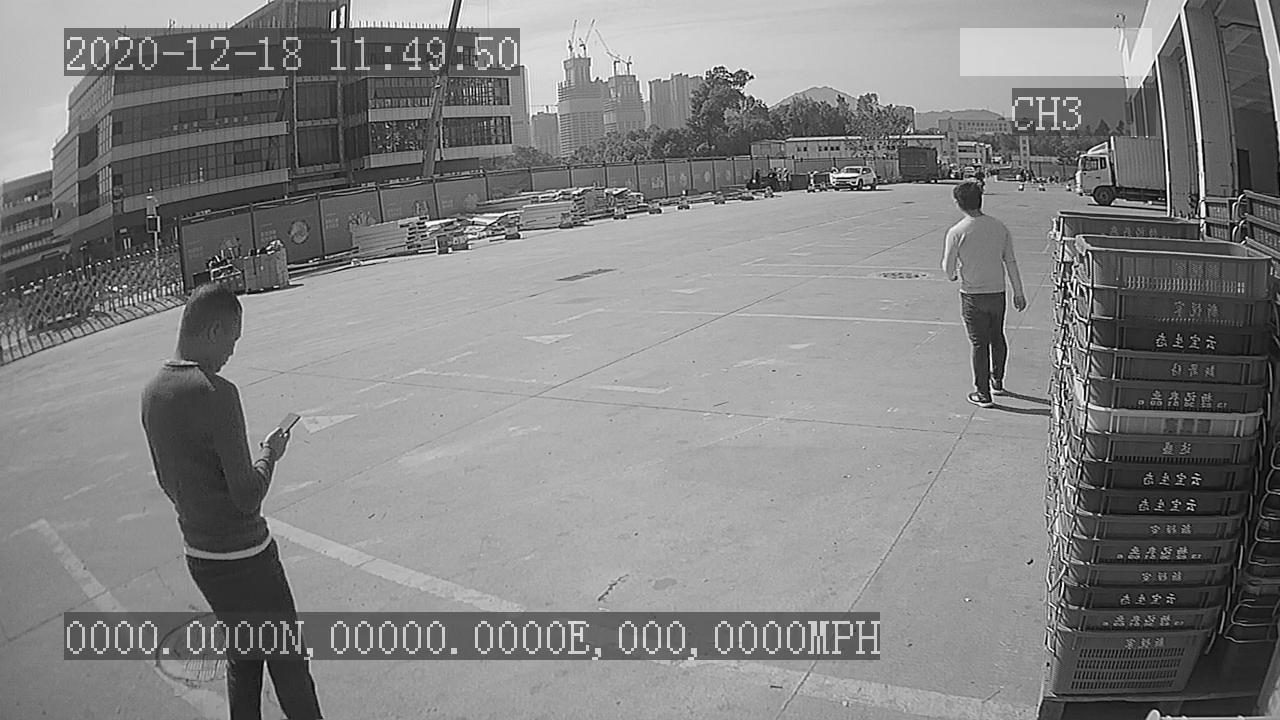person: (936, 177, 1031, 413)
